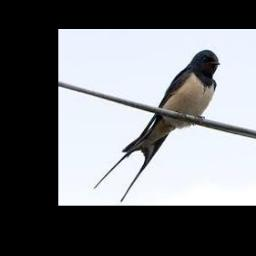Swallow: (94, 50, 220, 201)
